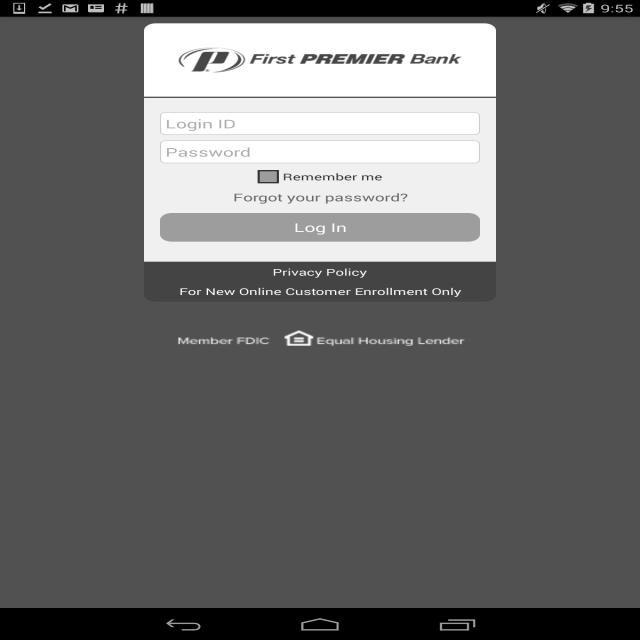Button: (160, 213, 480, 242)
CheckBox: (258, 170, 382, 183)
EditText: (160, 112, 480, 135), (160, 140, 480, 163)
ImageView: (144, 27, 496, 93), (155, 324, 485, 354)
TextView: (176, 282, 464, 301), (160, 302, 480, 318), (230, 186, 410, 208), (270, 262, 369, 282)
